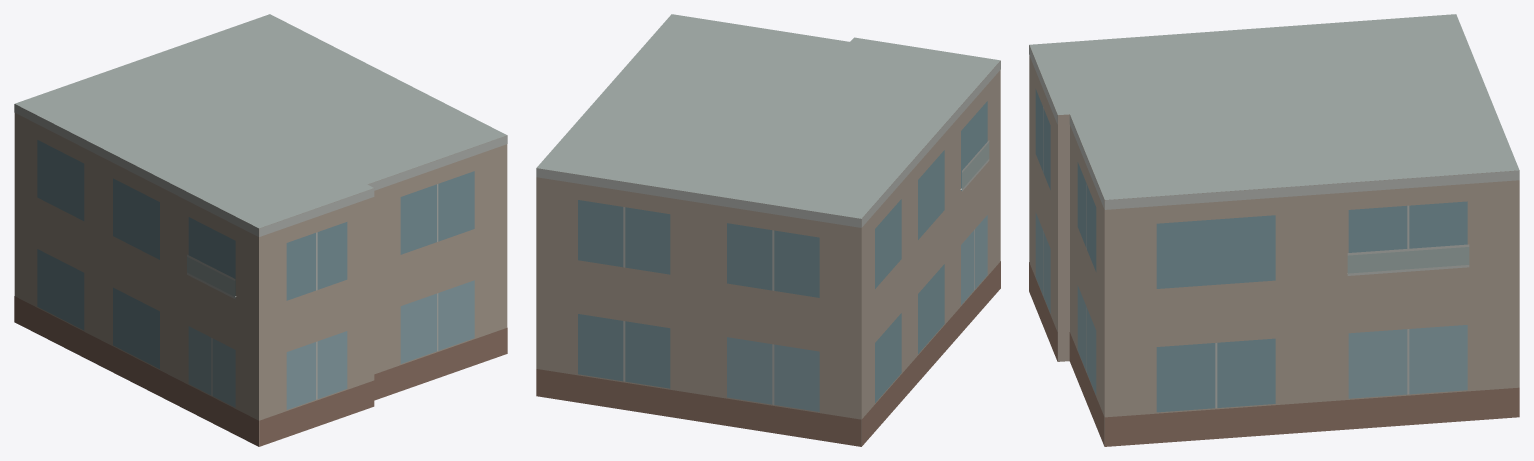
The model's file is survey-upis-32704834.glb.
3 renders of one model, left to right at view 1: azimuth 30°, elevation 25°; view 2: azimuth 150°, elevation 25°; view 3: azimuth 270°, elevation 25°, orthographic. The views are drawn at different scales.
Visible parts, largest first — view 1: survey-upis-32704834.tmp; view 2: survey-upis-32704834.tmp; view 3: survey-upis-32704834.tmp.
Part boxes in pixels (left/top/right/bottom): survey-upis-32704834.tmp: left=14, top=14, right=507, bottom=446; survey-upis-32704834.tmp: left=536, top=14, right=1000, bottom=446; survey-upis-32704834.tmp: left=1029, top=14, right=1519, bottom=446.
Size of the model in its own units: 9.87 by 6.1 by 11.
